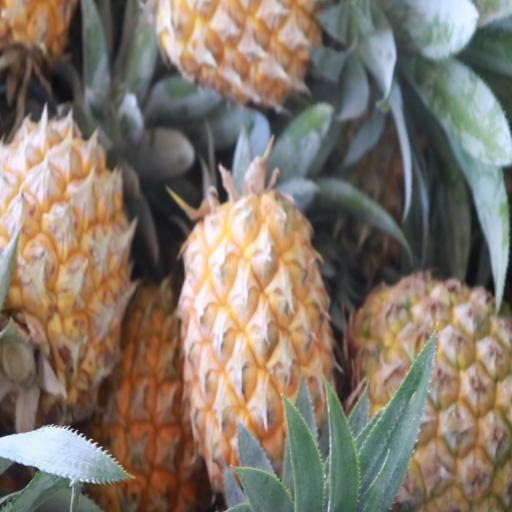Pineapple - v8 v1: (183, 194, 335, 502), (350, 274, 512, 510), (0, 114, 132, 394), (97, 281, 213, 512)
